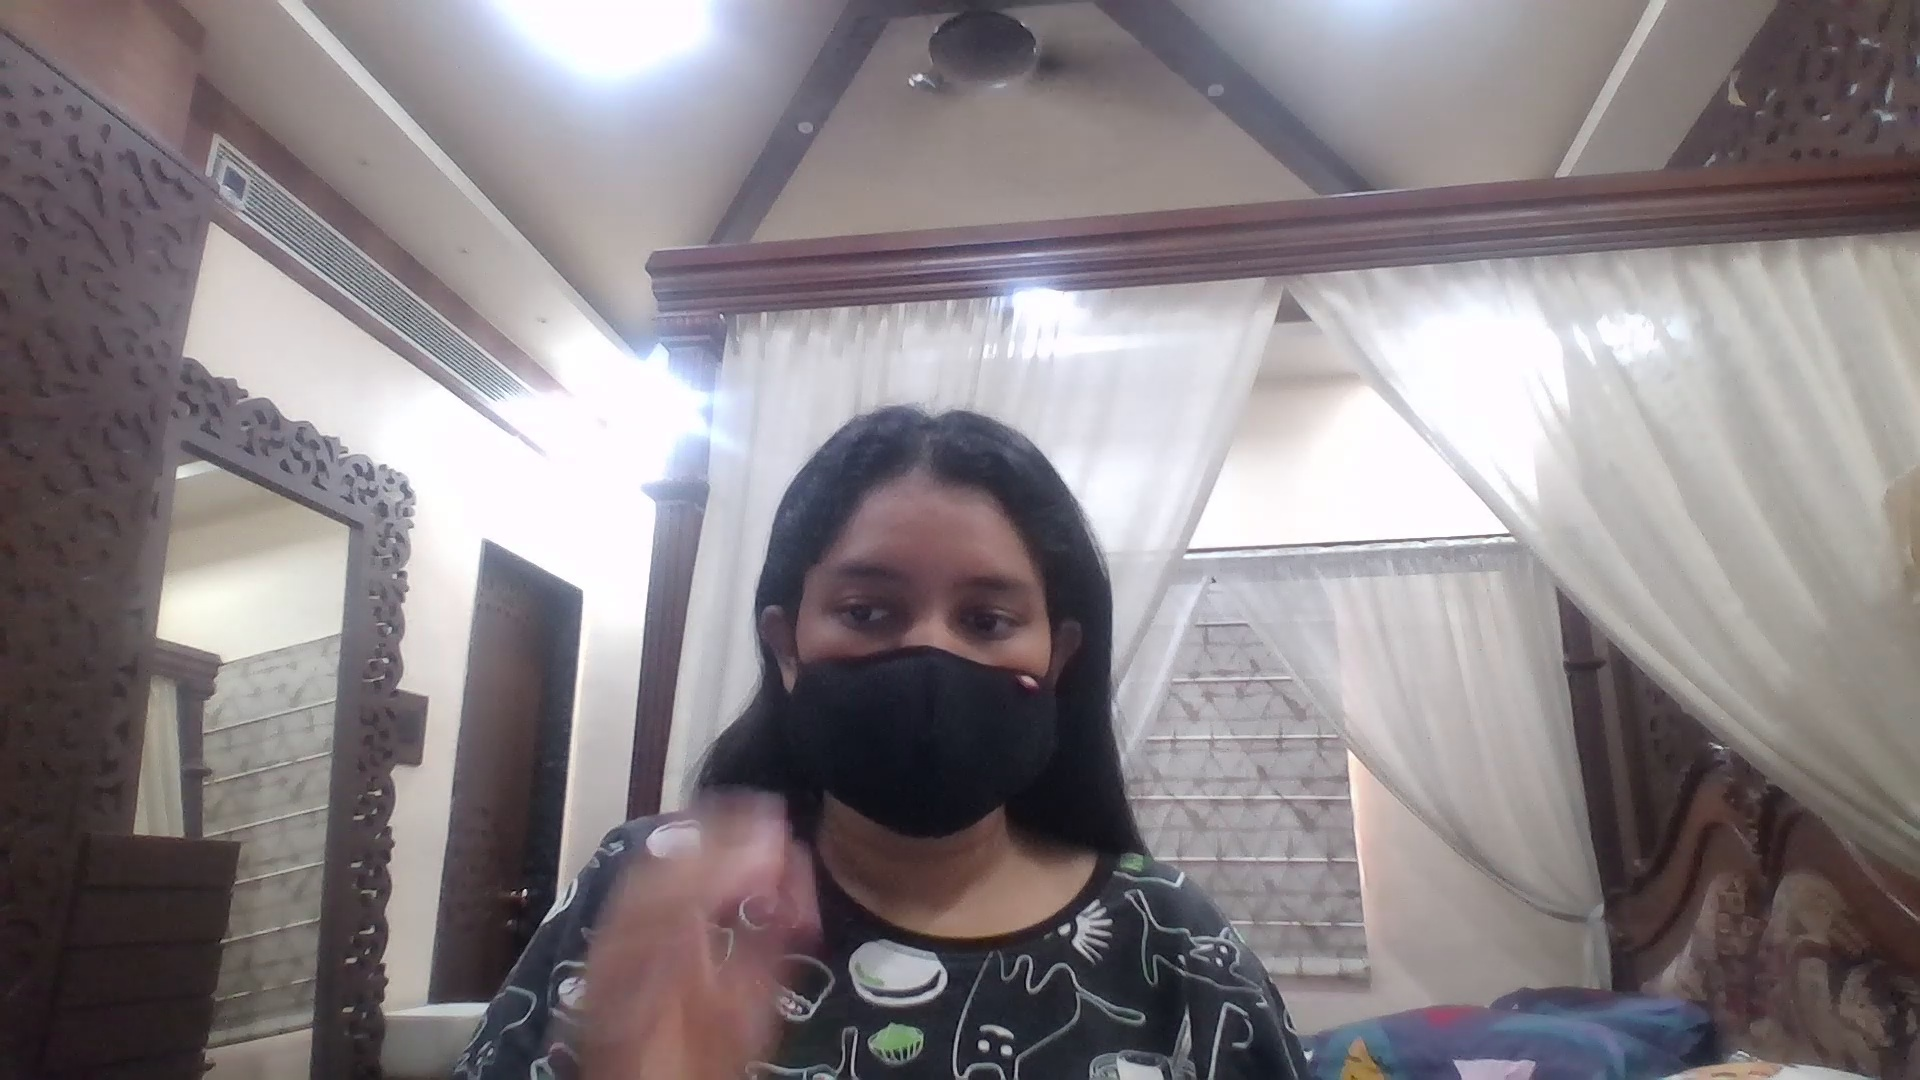Mask: (778, 650, 1057, 844)
